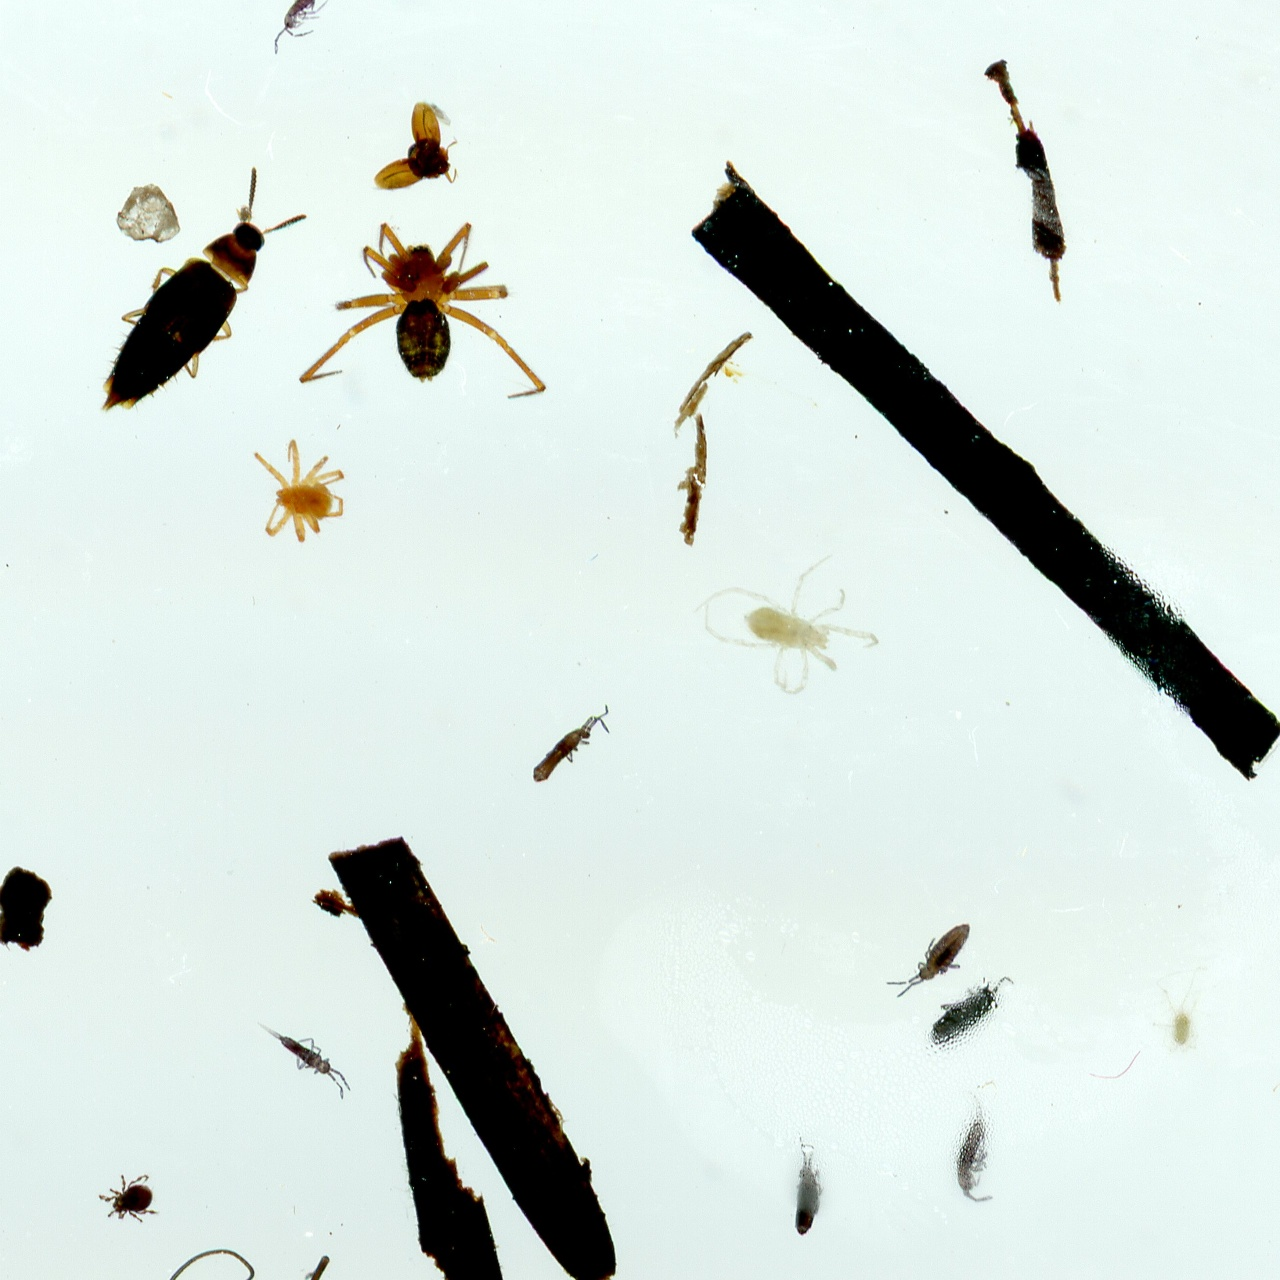arthropod: (91, 162, 311, 418), (295, 218, 551, 402), (688, 549, 884, 699), (874, 900, 990, 1023), (123, 1246, 523, 1280), (243, 1000, 365, 1107), (520, 688, 626, 806), (250, 437, 346, 543), (370, 98, 459, 193), (930, 975, 1016, 1049), (1148, 964, 1214, 1057), (951, 1088, 995, 1206), (790, 1125, 828, 1239), (271, 0, 333, 56), (98, 1173, 161, 1224)
